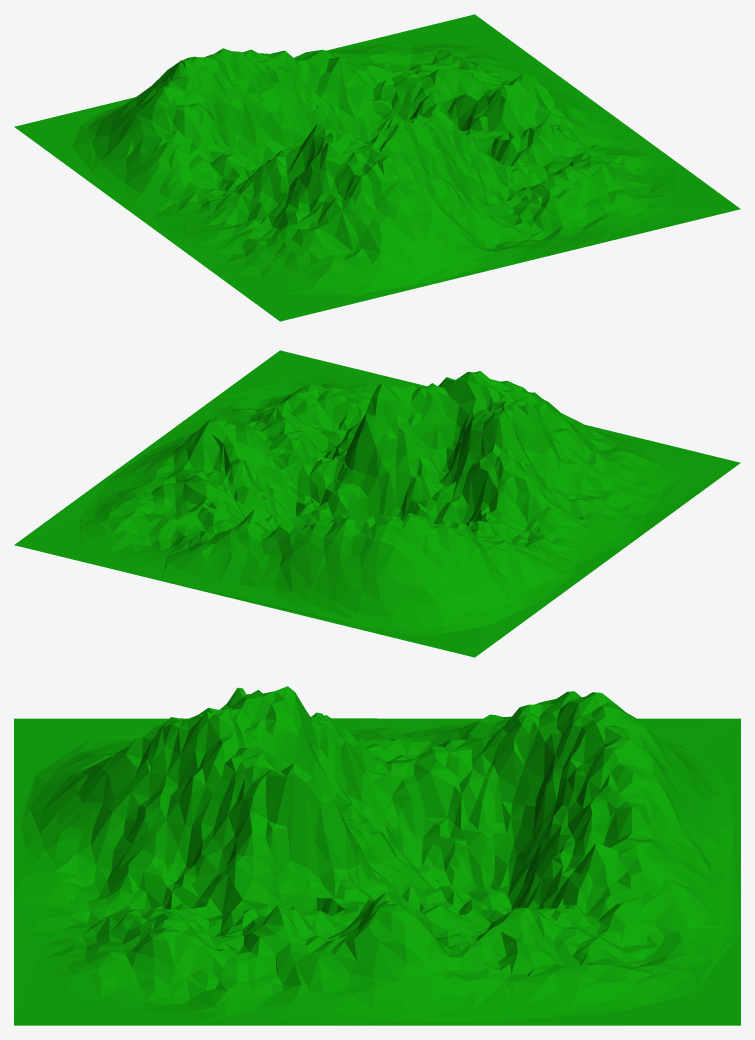
File: Mountain2.fbx
The picture shows the model from 3 angles, top to bottom: view 1: azimuth 30°, elevation 25°; view 2: azimuth 150°, elevation 25°; view 3: azimuth 270°, elevation 25°; orthographic projection. The views are drawn at different scales.
Visible parts, largest first — view 1: Landscape.002; view 2: Landscape.002; view 3: Landscape.002.
Part boxes in pixels (x1=…): Landscape.002: x1=14, y1=14, x2=740, y2=321; Landscape.002: x1=14, y1=350, x2=740, y2=657; Landscape.002: x1=14, y1=686, x2=740, y2=1025.
Bounding box in the file's own units: 200 × 65.35 × 200.
